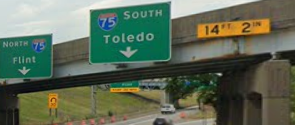1: (202, 23, 211, 37)
2: (239, 20, 252, 35)
4: (209, 22, 220, 37)
overheadsign: (196, 17, 270, 41)
